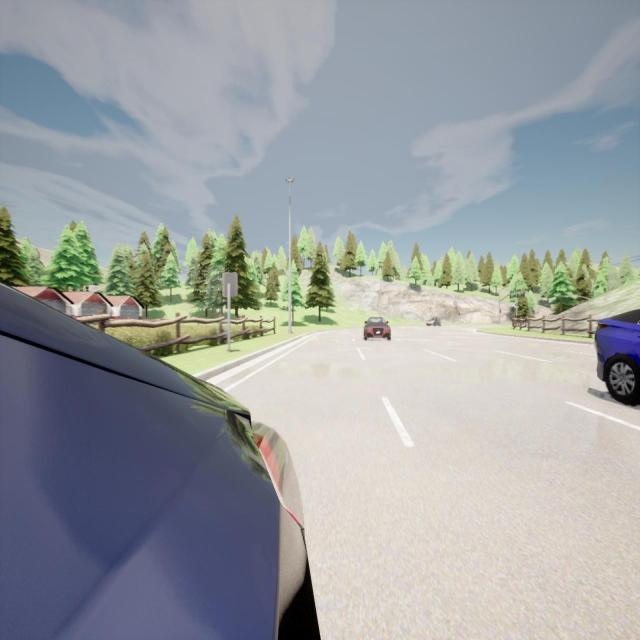Traffic_Signs: (223, 273, 238, 297)
Vehicle: (0, 284, 318, 638), (591, 303, 640, 403), (364, 316, 392, 340), (426, 316, 441, 328)
traffic_light: (517, 293, 519, 299), (522, 292, 524, 298), (510, 293, 511, 300)
